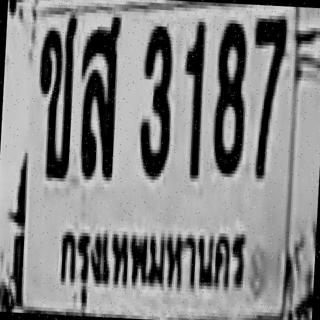A10: (33, 8, 77, 177)
A40: (75, 11, 120, 176)
N01: (179, 18, 205, 175)
N03: (136, 22, 174, 177)
N07: (247, 12, 287, 176)
N08: (210, 20, 248, 174)
P28: (51, 212, 252, 320)
